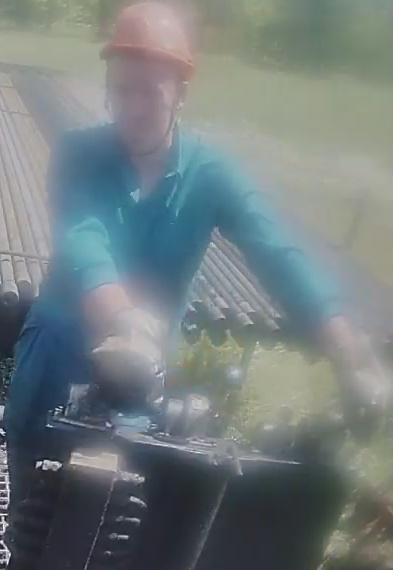gloves: (81, 304, 171, 398), (332, 346, 393, 444)
helmet: (96, 0, 201, 80)
vest: (48, 116, 220, 368)
